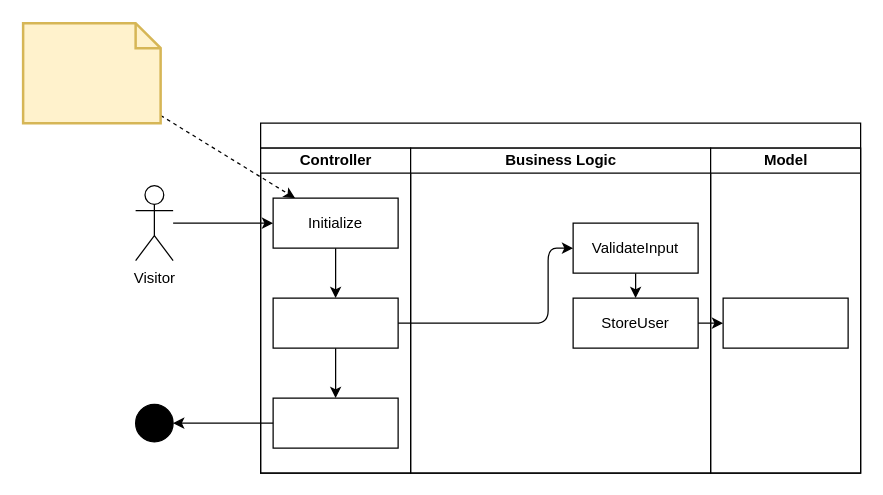
The diagram is 883 pixels wide and 495 high, and some of its shapes have lost their labels. The centre of each missing label's shape, as x and y in pixels:
CreateUser: point (785, 322)
Go to register page: point (91, 72)
Register: point (335, 322)
ShowLogin: point (335, 422)
